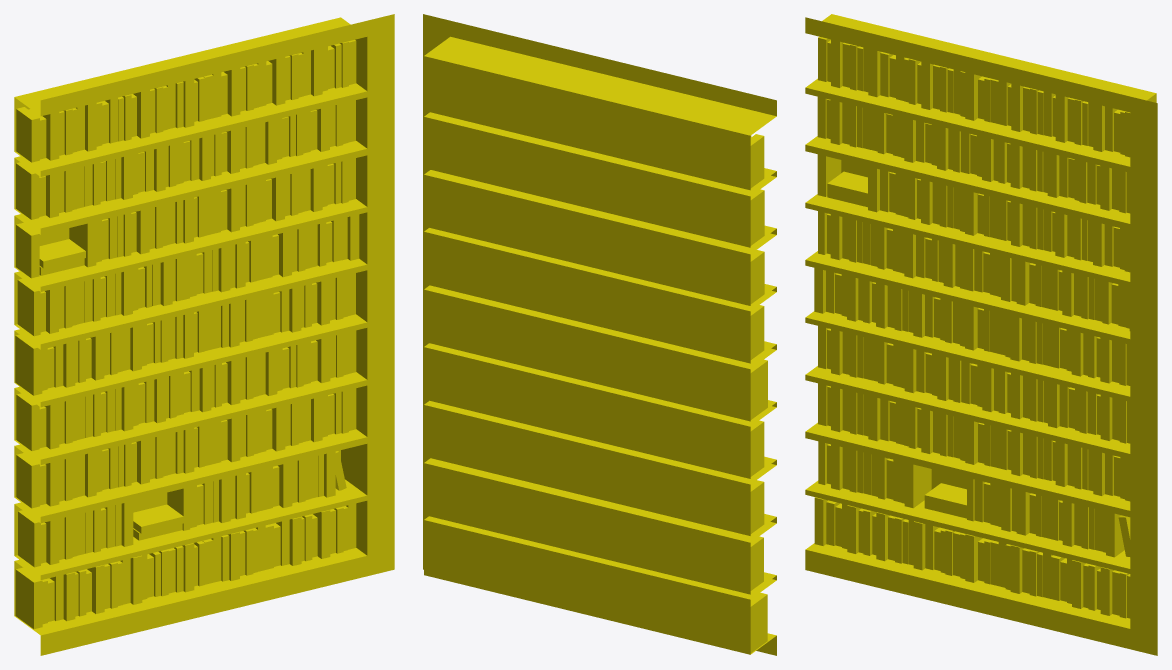
The model's file is modular bookshelf right.fbx.
The picture shows the model from 3 angles, left to right: view 1: azimuth 30°, elevation 25°; view 2: azimuth 150°, elevation 25°; view 3: azimuth 330°, elevation 25°; orthographic projection.
Visible parts, largest first — view 1: book434; view 2: book434; view 3: book434.
Part boxes in pixels (<box>): book434: <box>14,14,394,655</box>; book434: <box>423,14,776,655</box>; book434: <box>805,14,1157,655</box>.
Bounding box in the file's own units: 200 × 300 × 25.87.
